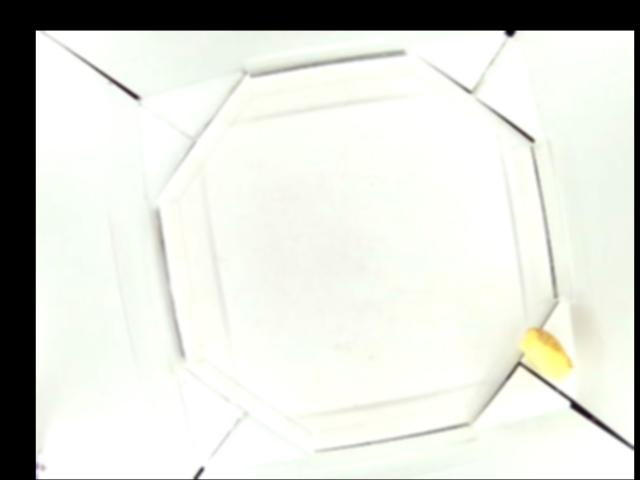Potato: (518, 327, 576, 381)
